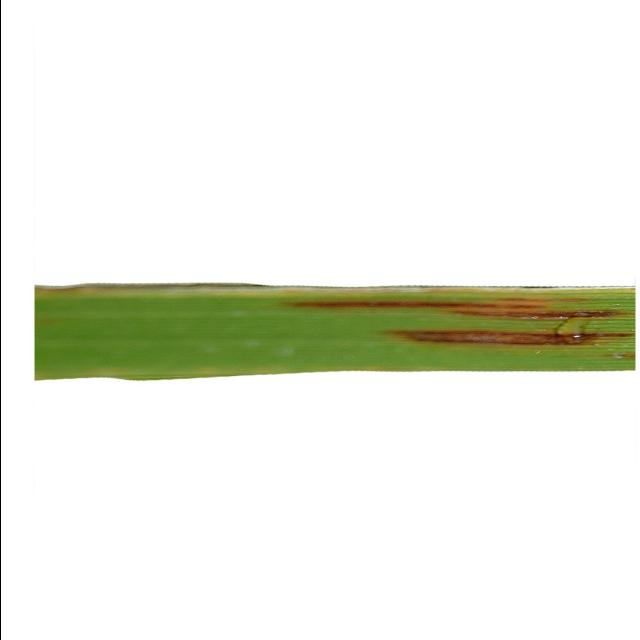Narrow brown: (6, 239, 640, 438)
